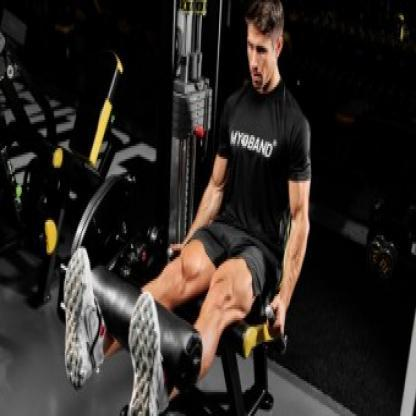leg extension: (50, 0, 318, 416)
